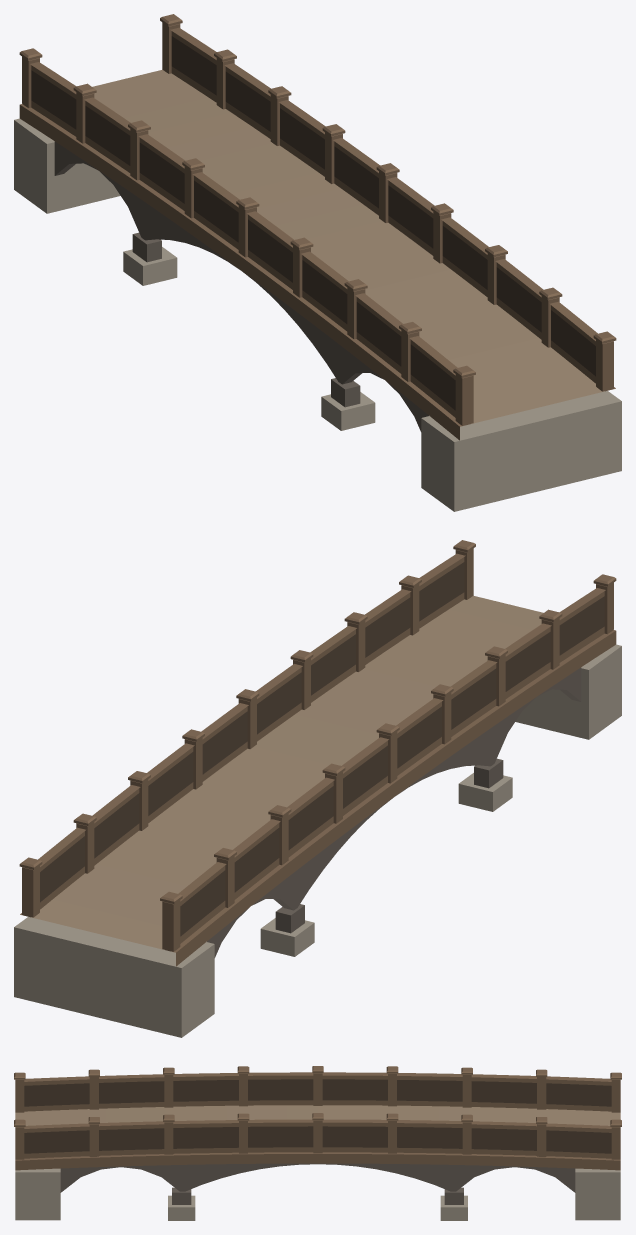
Rendered from nyc-oak-bridge.glb.
3 views of the same model, one above another, from view 1: azimuth 30°, elevation 25°; view 2: azimuth 150°, elevation 25°; view 3: azimuth 270°, elevation 25° (orthographic). The views are drawn at different scales.
Visible parts, largest first — view 1: Oak Bridge; view 2: Oak Bridge; view 3: Oak Bridge.
Boxes of the visible parts, x1,y1,x2,y2 form: Oak Bridge: [14, 14, 621, 511]; Oak Bridge: [14, 540, 621, 1037]; Oak Bridge: [14, 1066, 621, 1220].
Bounding box in the file's own units: 4.5 × 3.67 × 20.08.
